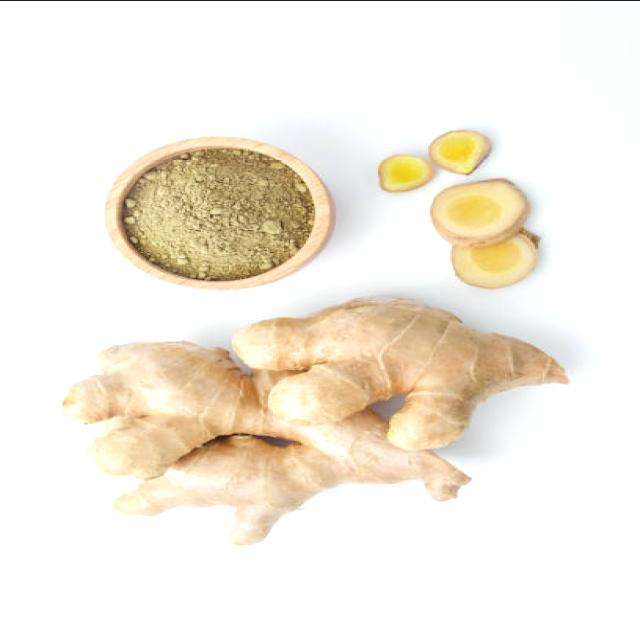ginger-root: (42, 292, 586, 550)
